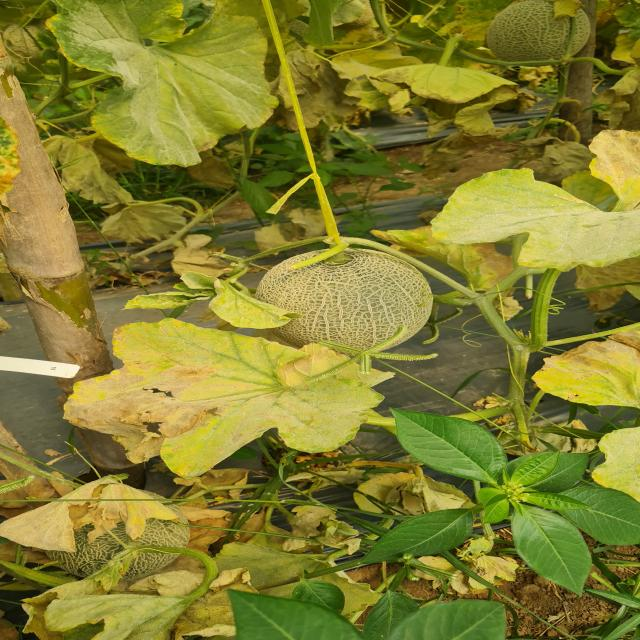melon: (256, 249, 433, 350)
